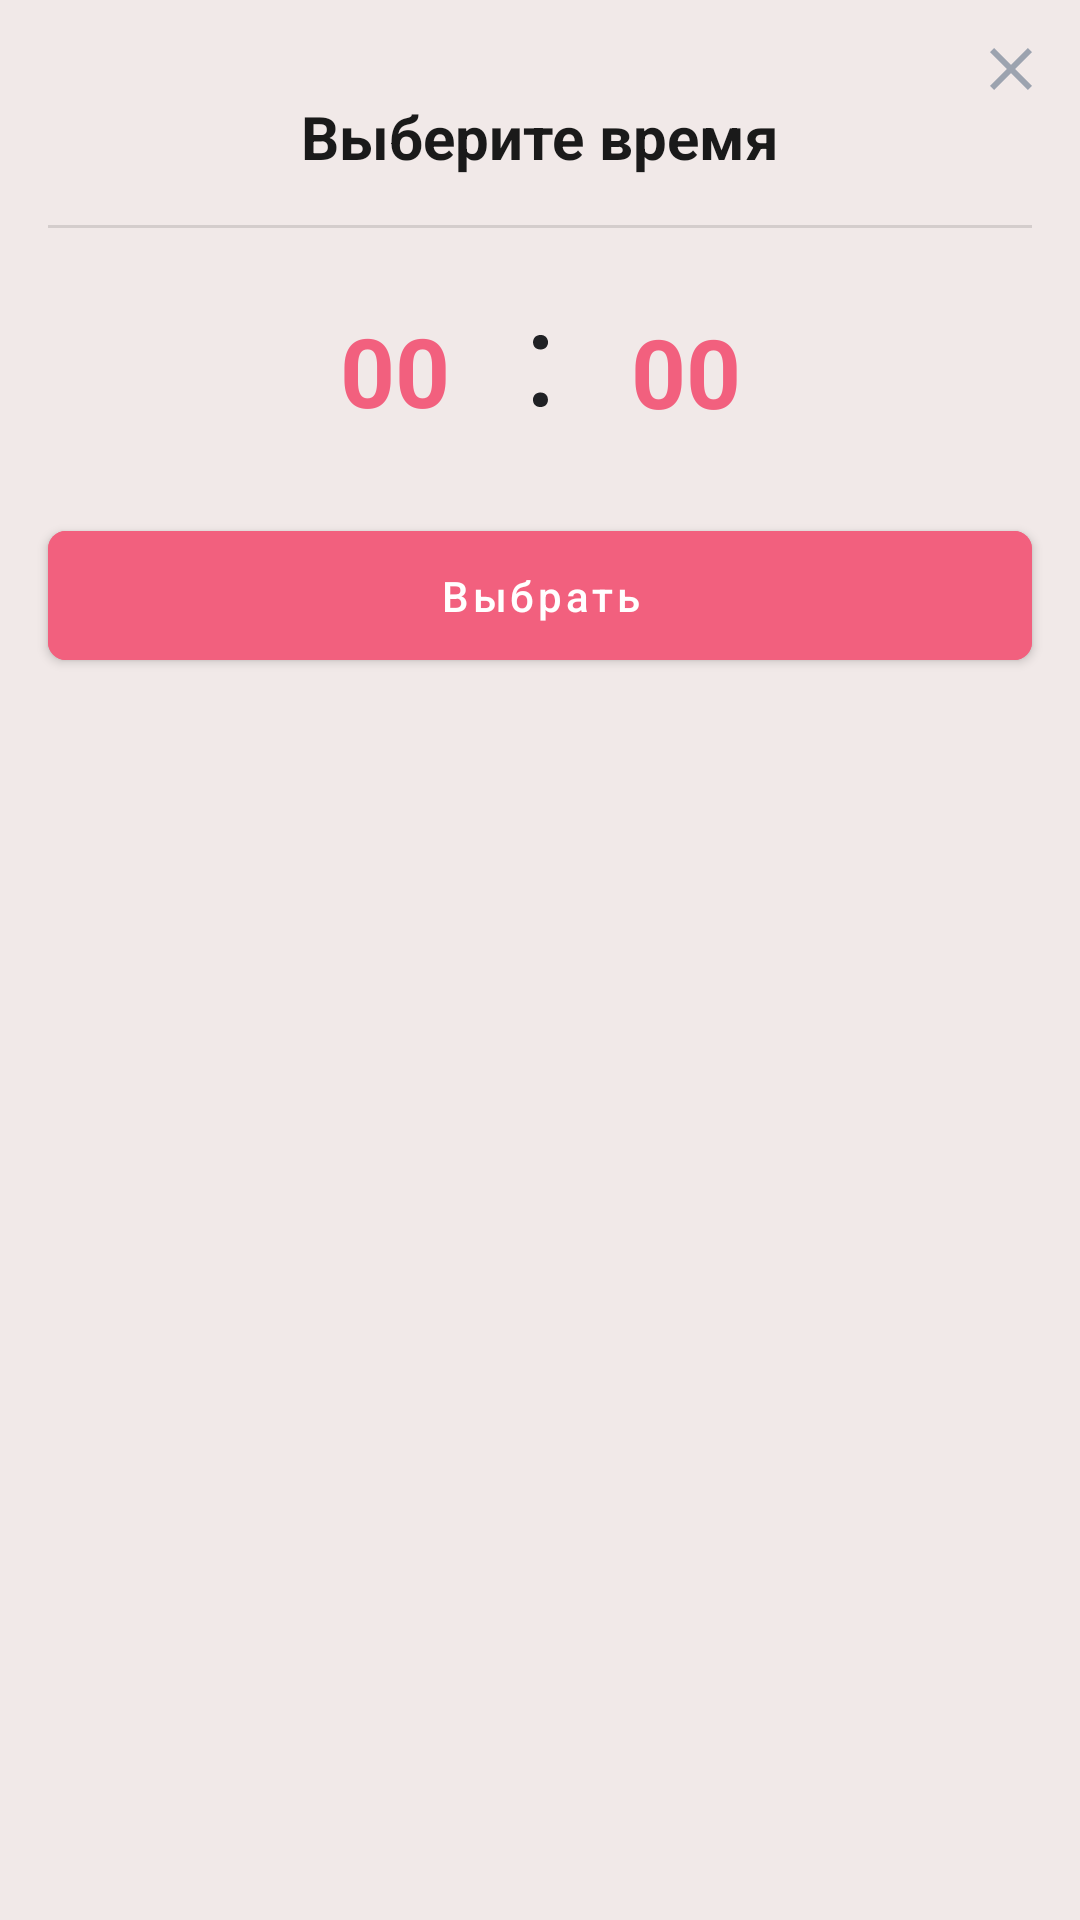

Locate icon controls on the screen. Image size 1080*1920, boxes as (x1, y1, x2, y2).
close: (990, 48, 1032, 90)
